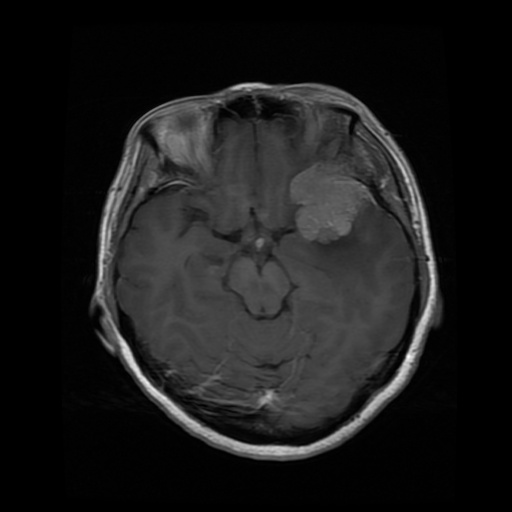meningioma: (288, 162, 371, 244)
